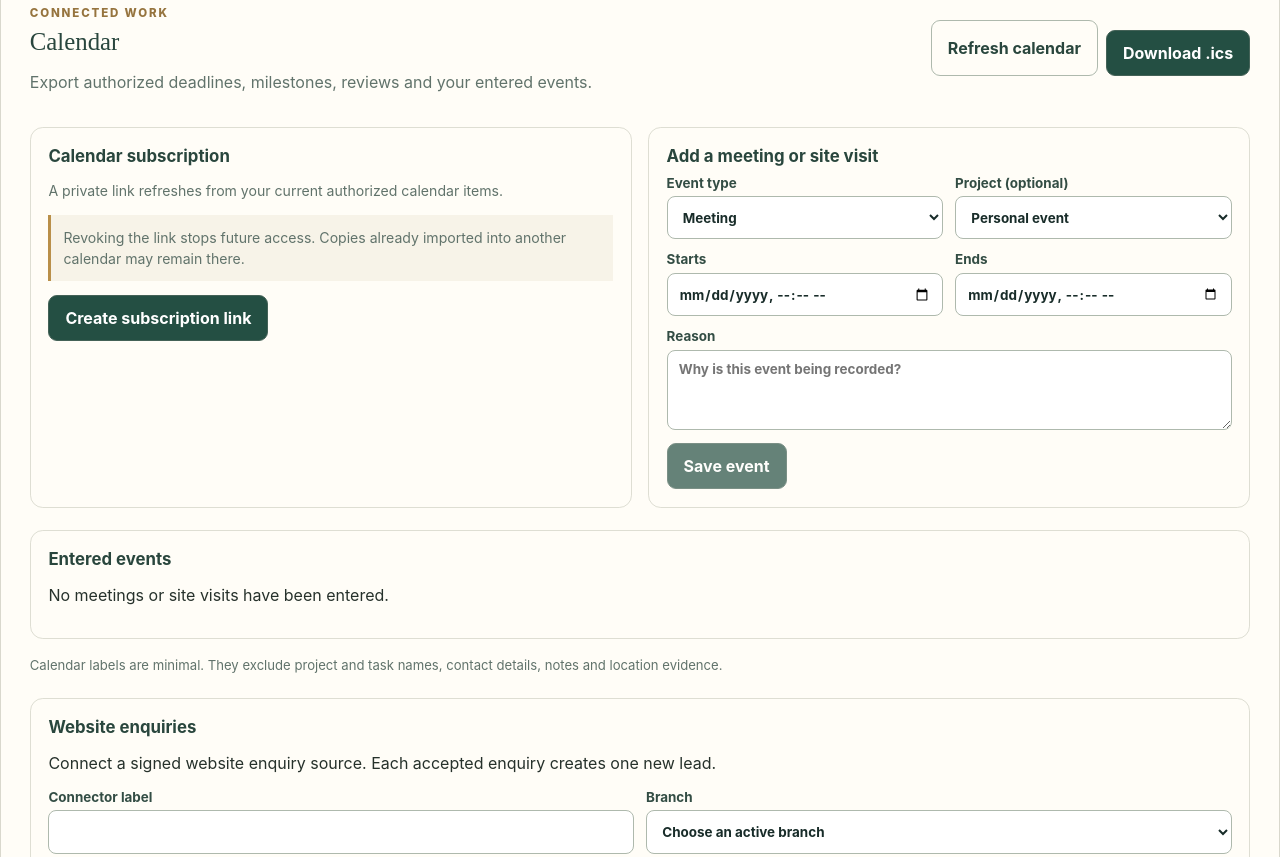
calendar integrations › lets the Owner create and rotate a connector with one-time secret disclosure, then disable by version
Type "Studio website" into the field labelled "Connector label".
click(341, 832); type("Studio website")  # box [48,810,634,854]
Select "Studio branch" in the dropdown labelled "Branch" at [939, 832], box [646,810,1232,854]
(page scrolled)
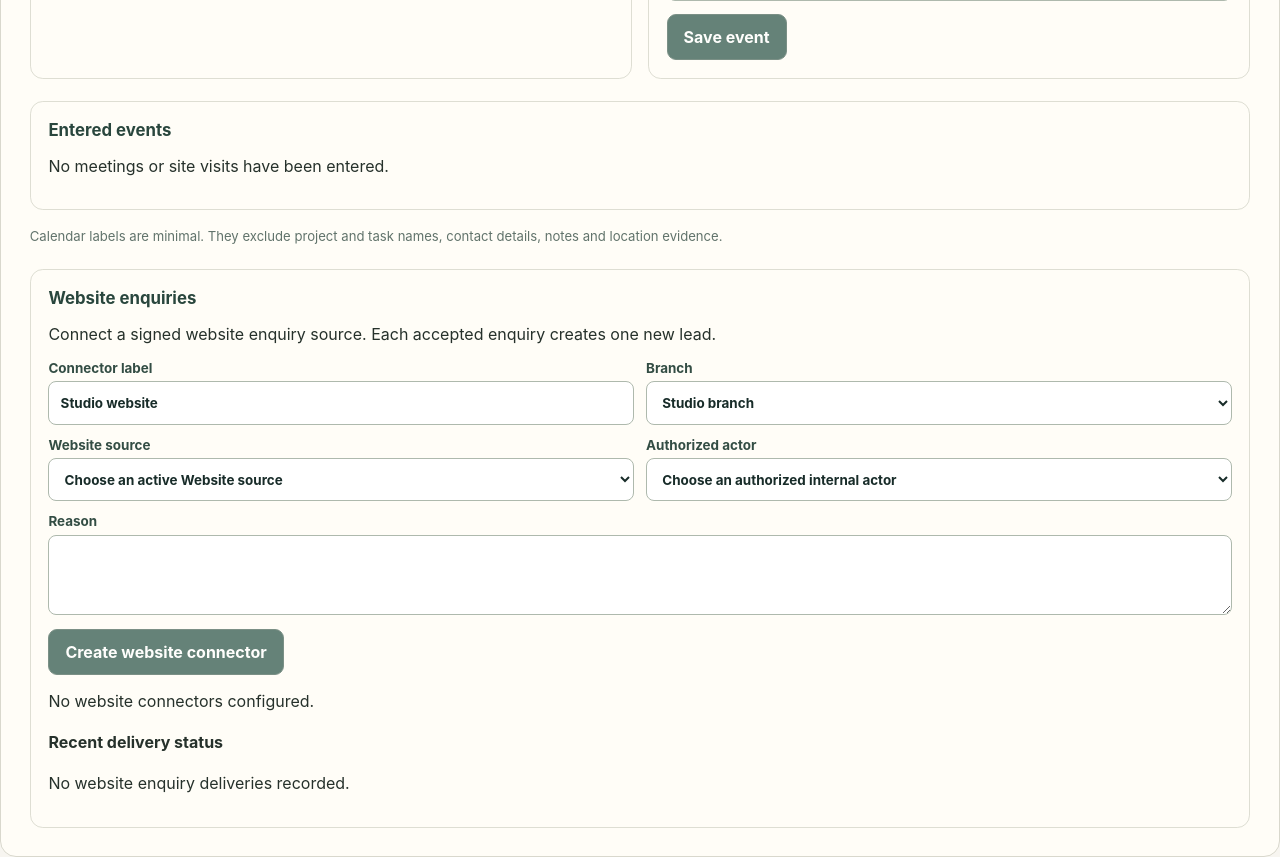
Select "Website" in the dropdown labelled "Website source" at [341, 480], box [48,458,634,501]
Select "Authorized staff" in the dropdown labelled "Authorized actor" at [939, 480], box [646,458,1232,501]
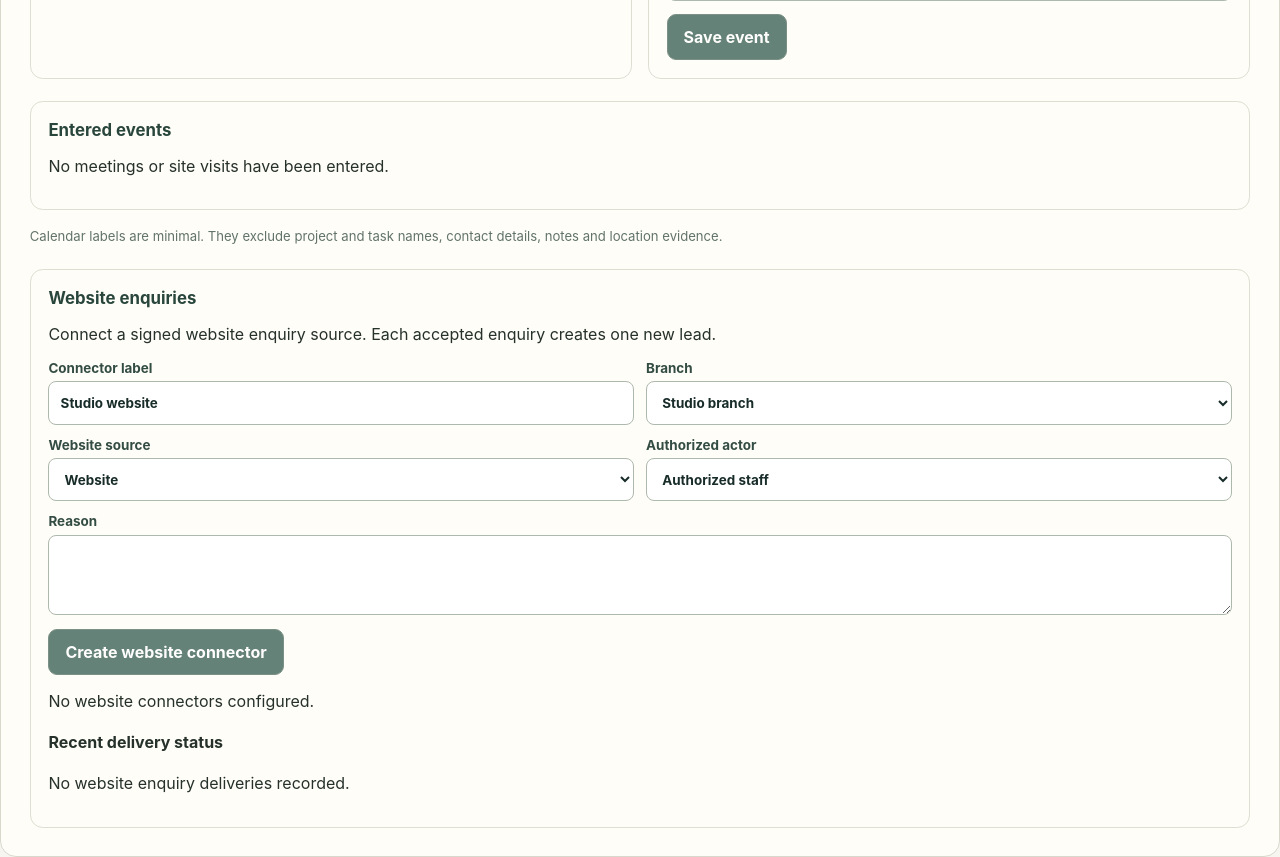
Type "Enable website intake" into the text box labelled "Reason" below "Website source".
click(640, 575); type("Enable website intake")  # box [48,535,1232,615]
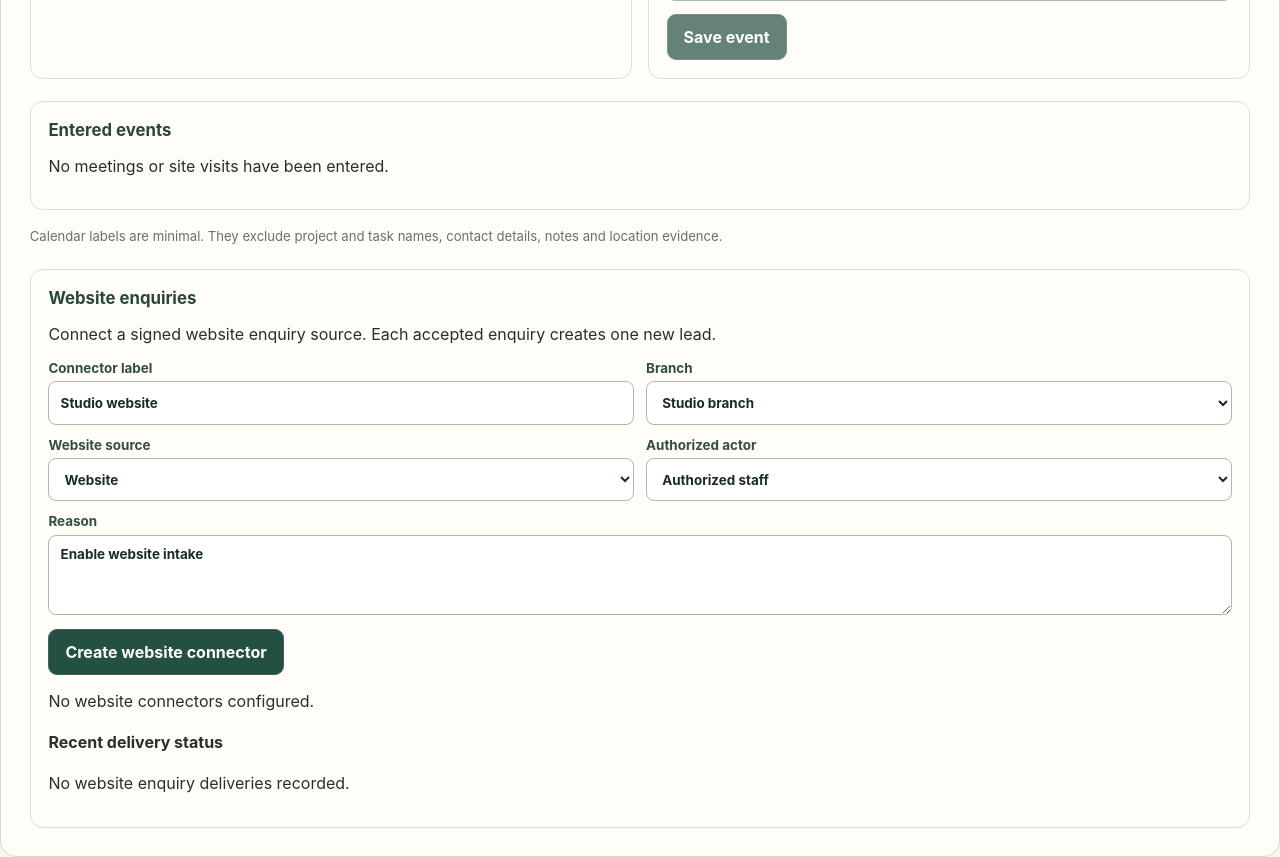
Click the button "Create website connector".
click(166, 652)  # box [48,629,284,675]
(page scrolled)
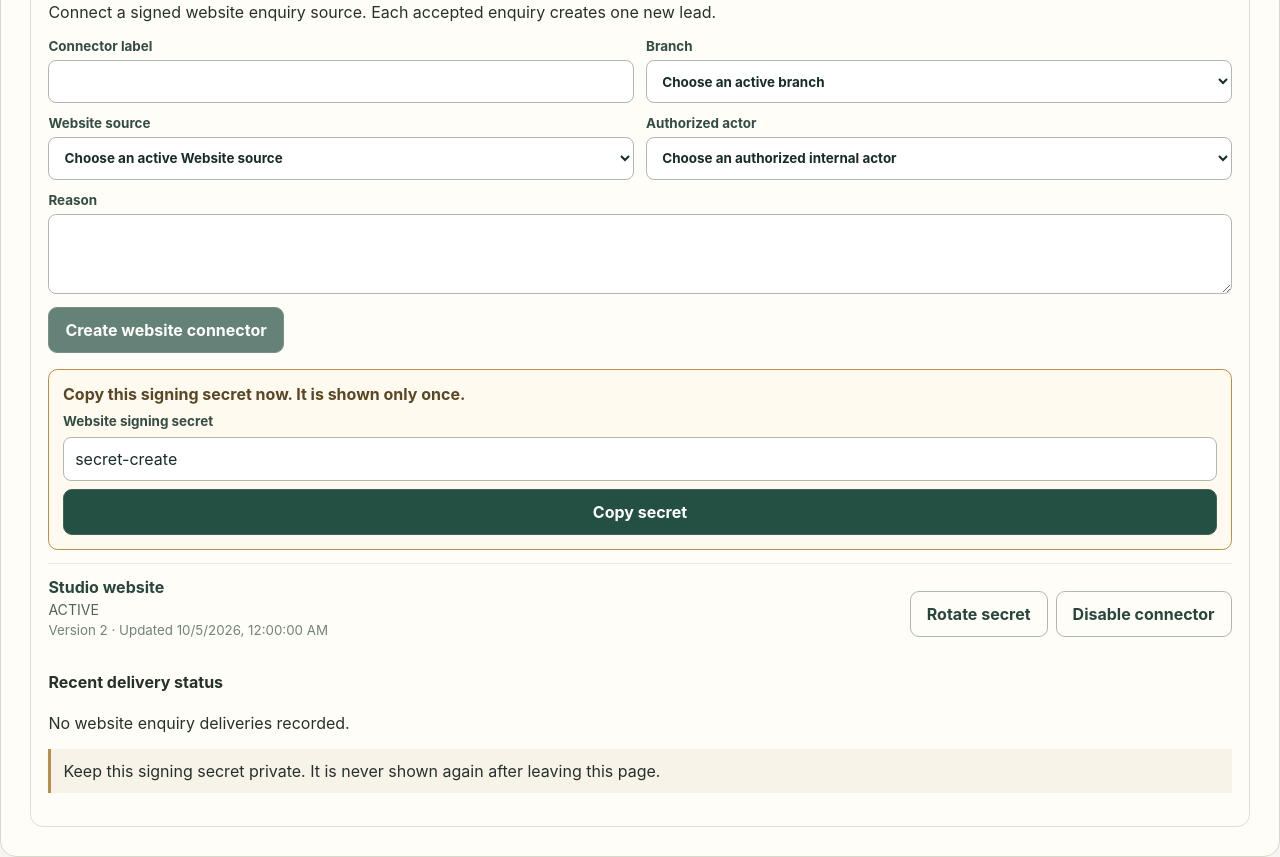
Expected: the field labelled "Website signing secret" holds "secret-create", [63,437,1217,480]
Click the button "Rotate secret".
click(979, 614)  # box [910,591,1048,637]
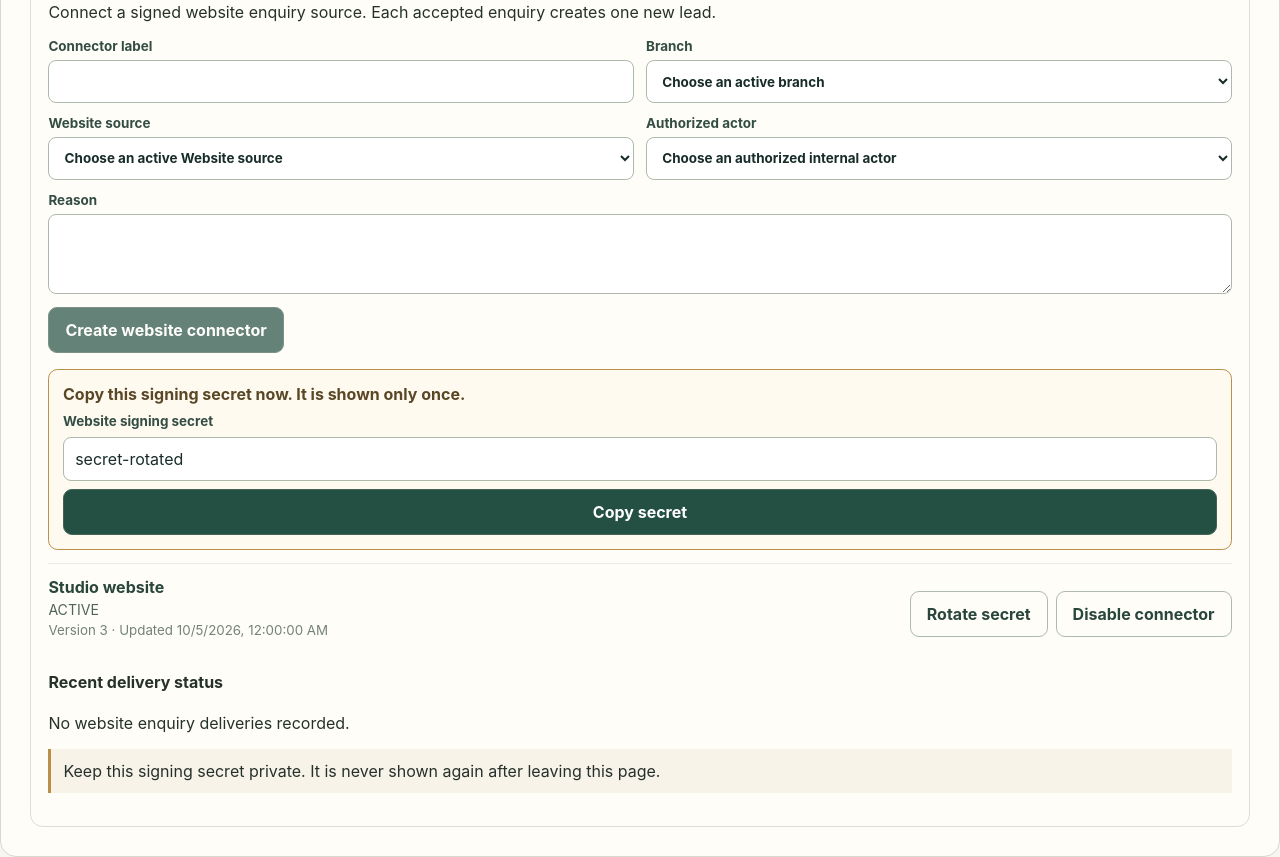
Expected: the field labelled "Website signing secret" holds "secret-rotated", [63,437,1217,480]
Click the button "Disable connector".
click(1144, 614)  # box [1056,591,1232,637]
(page scrolled)
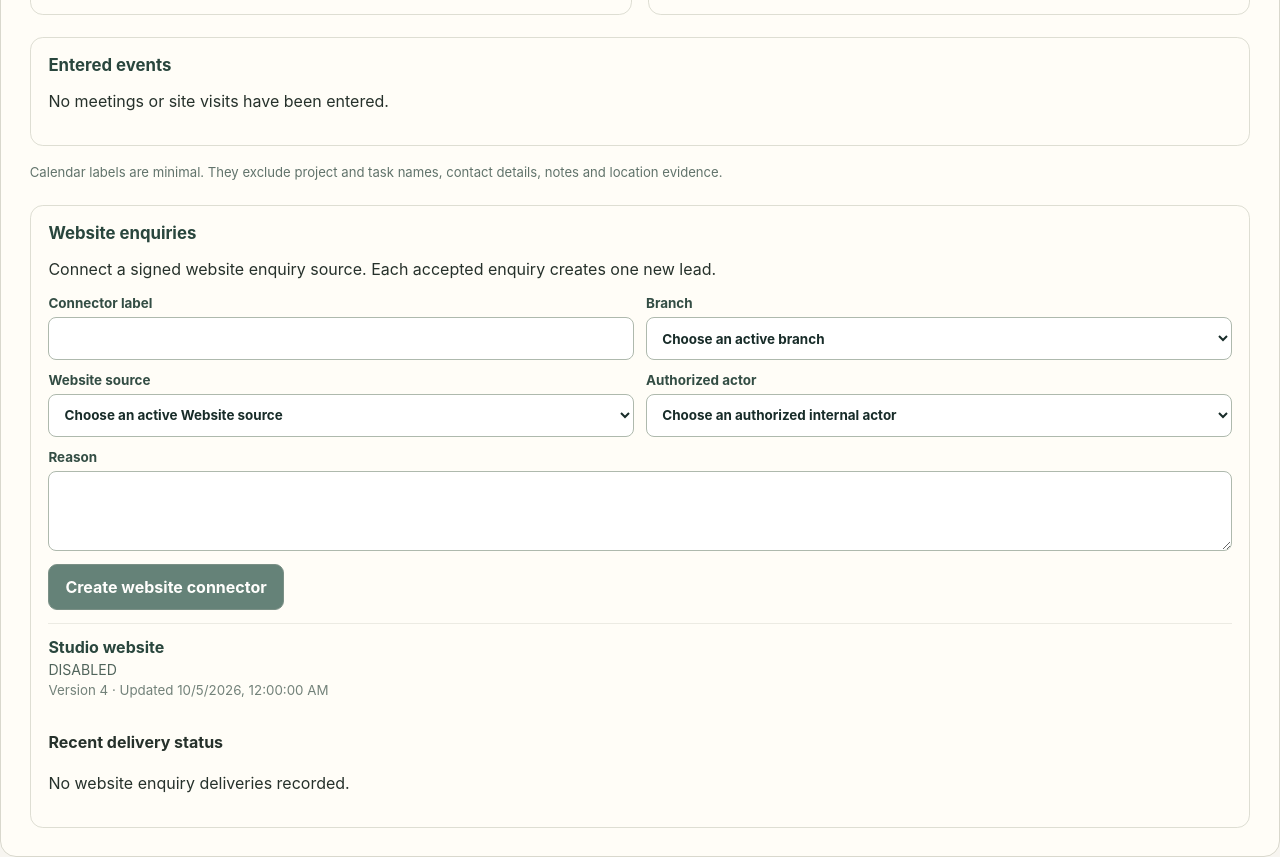
Expected: the text "DISABLED" is shown, [48,661,117,678]
